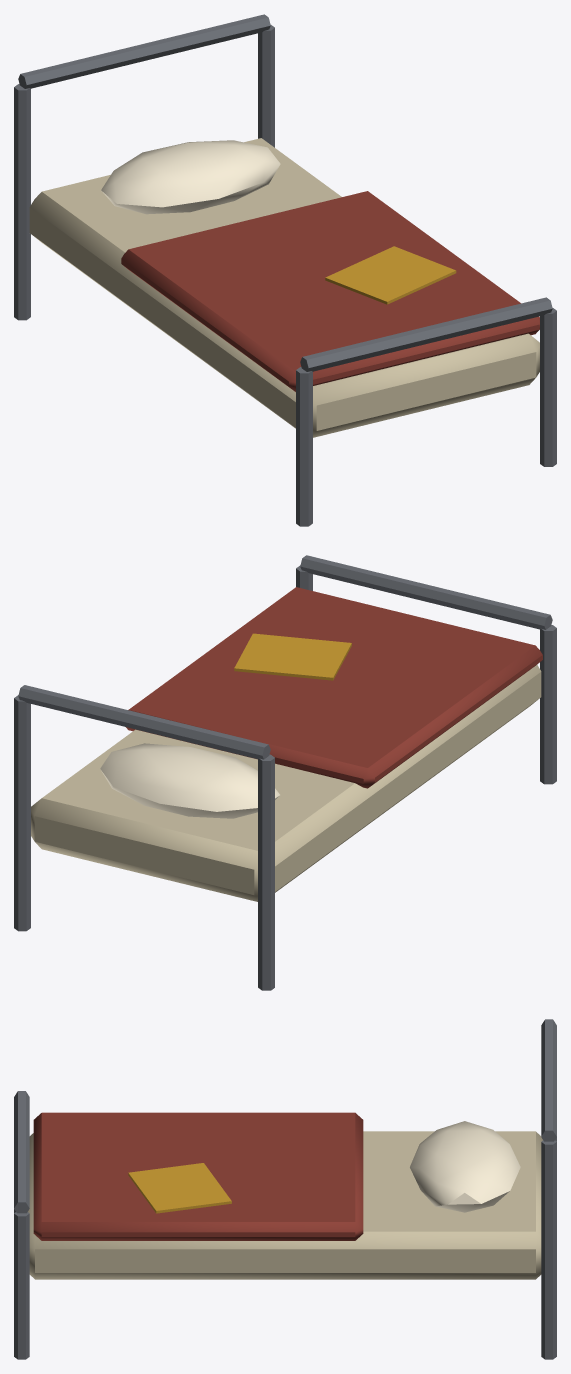
The model's file is bed.glb.
3 views of the same model, one above another, from view 1: azimuth 30°, elevation 25°; view 2: azimuth 150°, elevation 25°; view 3: azimuth 270°, elevation 25° (orthographic). The views are drawn at different scales.
Visible parts, largest first — view 1: bed; view 2: bed; view 3: bed.
Part boxes in pixels (x1,y1,x2,y2): bed: [14, 14, 556, 526]; bed: [14, 555, 556, 990]; bed: [14, 1019, 556, 1359].
Bounding box in the file's own units: 1.05 × 0.946 × 2.06.
